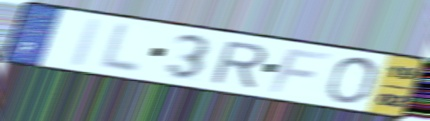3: (163, 33, 215, 81)
F: (266, 47, 336, 95)
I: (66, 16, 107, 69)
L: (95, 21, 144, 76)
O: (323, 56, 380, 105)
R: (207, 40, 270, 90)
